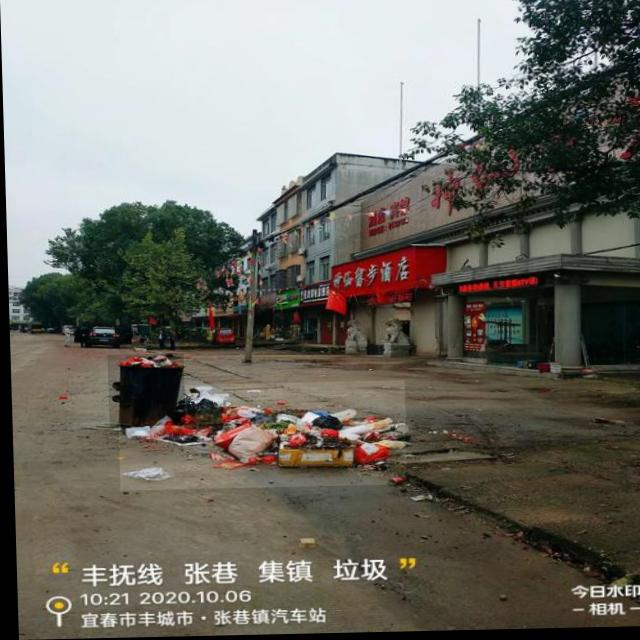garbage: (115, 382, 404, 491)
overflow: (105, 354, 183, 427)
